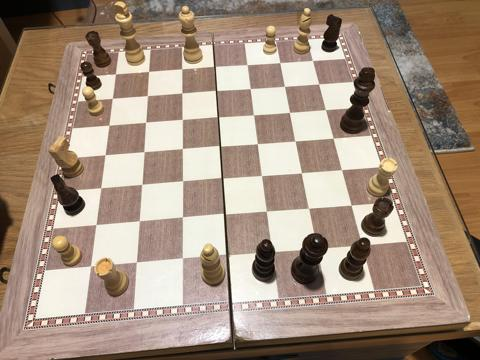xcorner: (176, 63, 189, 76), (291, 135, 304, 148), (176, 176, 189, 189), (94, 182, 107, 195), (308, 55, 321, 67), (275, 57, 288, 69), (210, 61, 222, 74), (280, 81, 293, 93), (211, 85, 223, 98), (176, 88, 189, 100), (107, 92, 119, 105), (249, 109, 262, 121), (176, 114, 189, 126), (103, 119, 115, 132), (329, 133, 342, 145), (253, 138, 266, 150), (176, 144, 189, 156), (138, 146, 150, 159), (258, 170, 270, 183), (217, 173, 229, 186), (136, 179, 148, 192), (348, 200, 360, 213), (305, 204, 318, 216), (262, 207, 275, 219), (176, 213, 189, 225), (133, 216, 145, 229), (313, 244, 326, 256), (222, 251, 235, 263), (176, 255, 189, 267), (130, 258, 143, 270), (243, 59, 255, 71), (143, 66, 155, 78), (110, 68, 122, 80), (315, 78, 327, 90), (246, 83, 258, 95), (142, 90, 154, 102), (322, 104, 334, 116), (286, 107, 298, 119), (213, 112, 225, 124), (140, 117, 152, 129), (215, 141, 227, 153), (99, 149, 111, 161), (338, 165, 350, 177), (298, 168, 310, 180), (220, 210, 232, 222), (90, 220, 102, 232), (359, 241, 371, 253), (268, 248, 280, 260), (84, 262, 96, 274)
